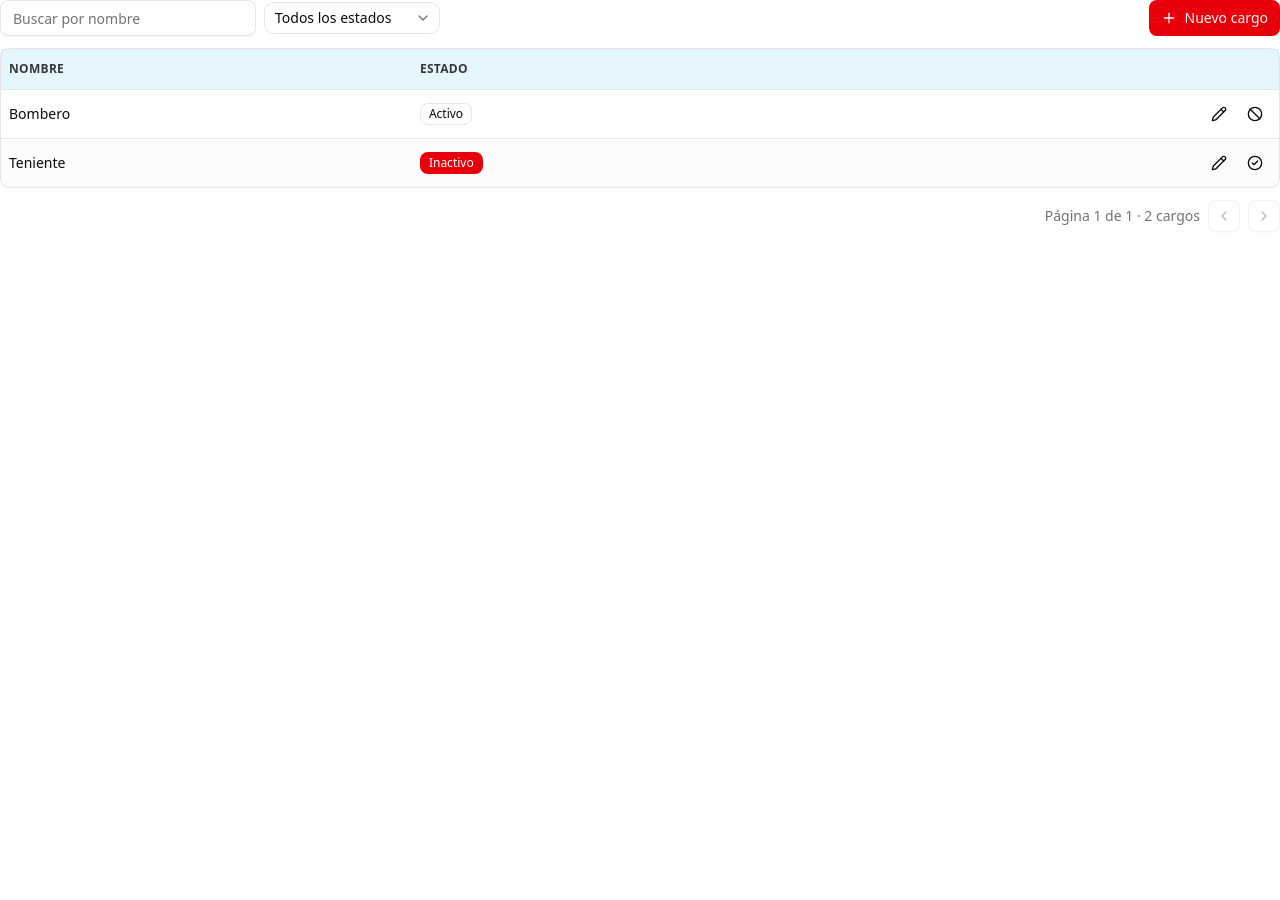
PositionsTab (004 US2, FR-004) › desactiva tras confirmar; los empleados lo conservan (US2-1)
Later steps or results of the test are not shown.
expect the row "Bombero Activo" is shown: met, box 1,89 -> 1279,138
Click the button named "Desactivar Bombero".
click(1255, 114)  # box 1239,98 -> 1271,130
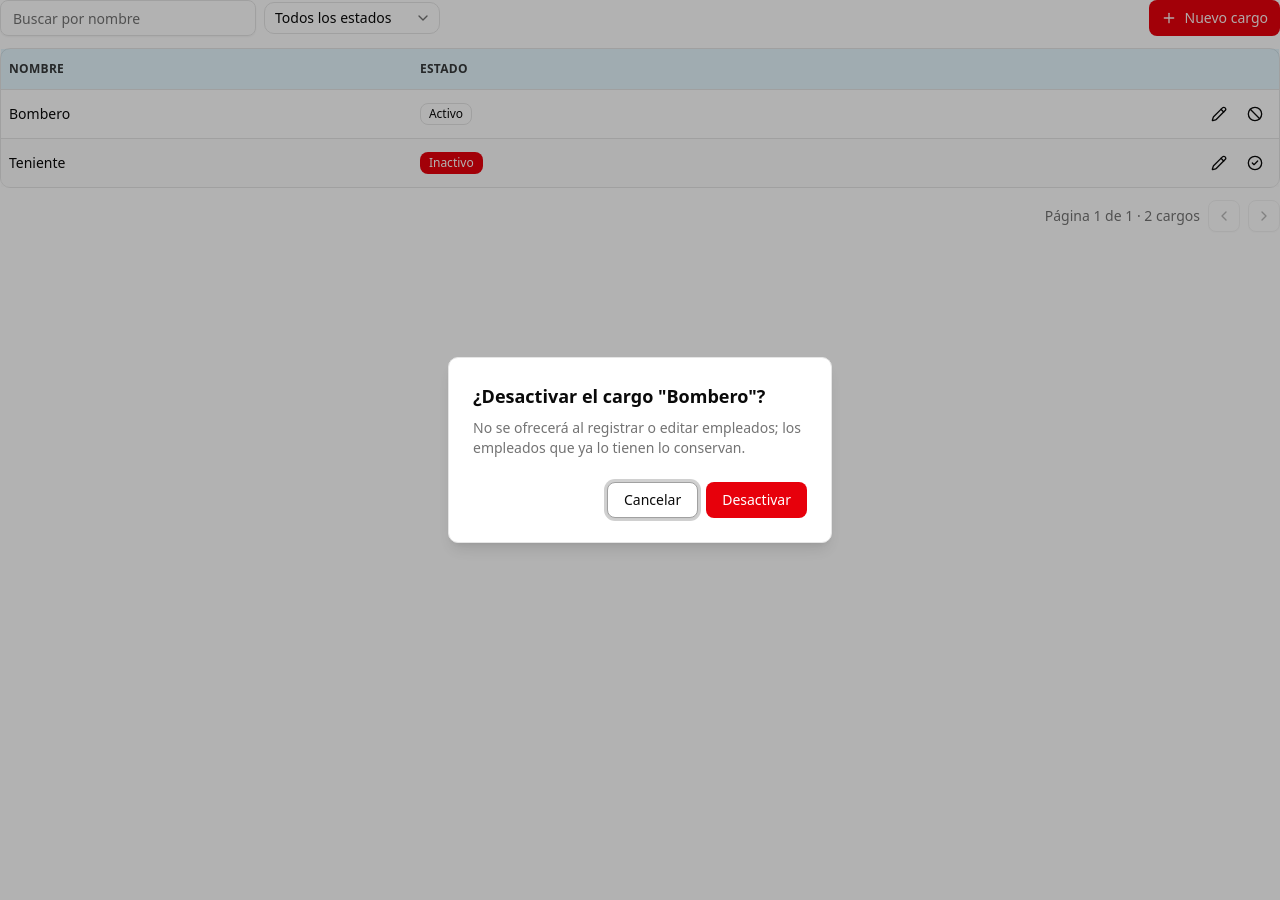
expect the text "empleados que ya lo tienen lo conservan" is shown: met, box 473,418 -> 801,457
